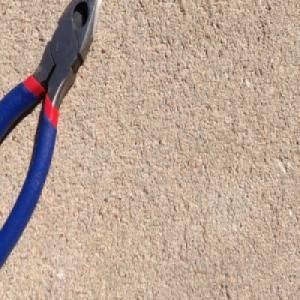Pliers: (0, 0, 100, 272)
